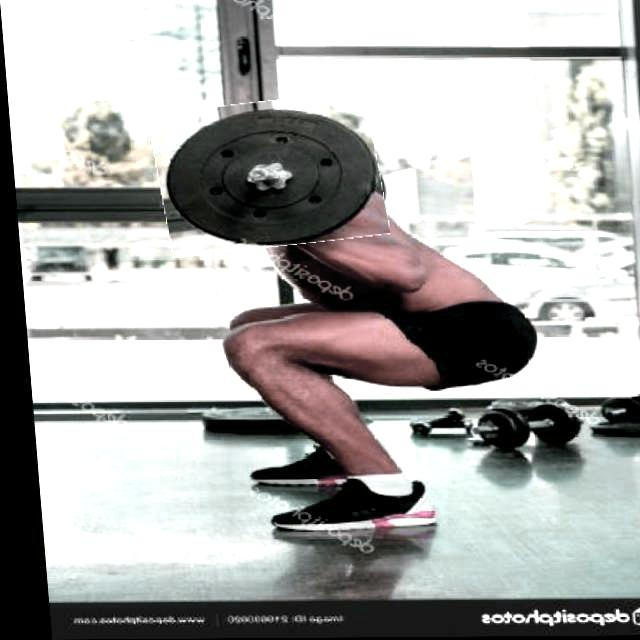barbell: (148, 98, 384, 252)
